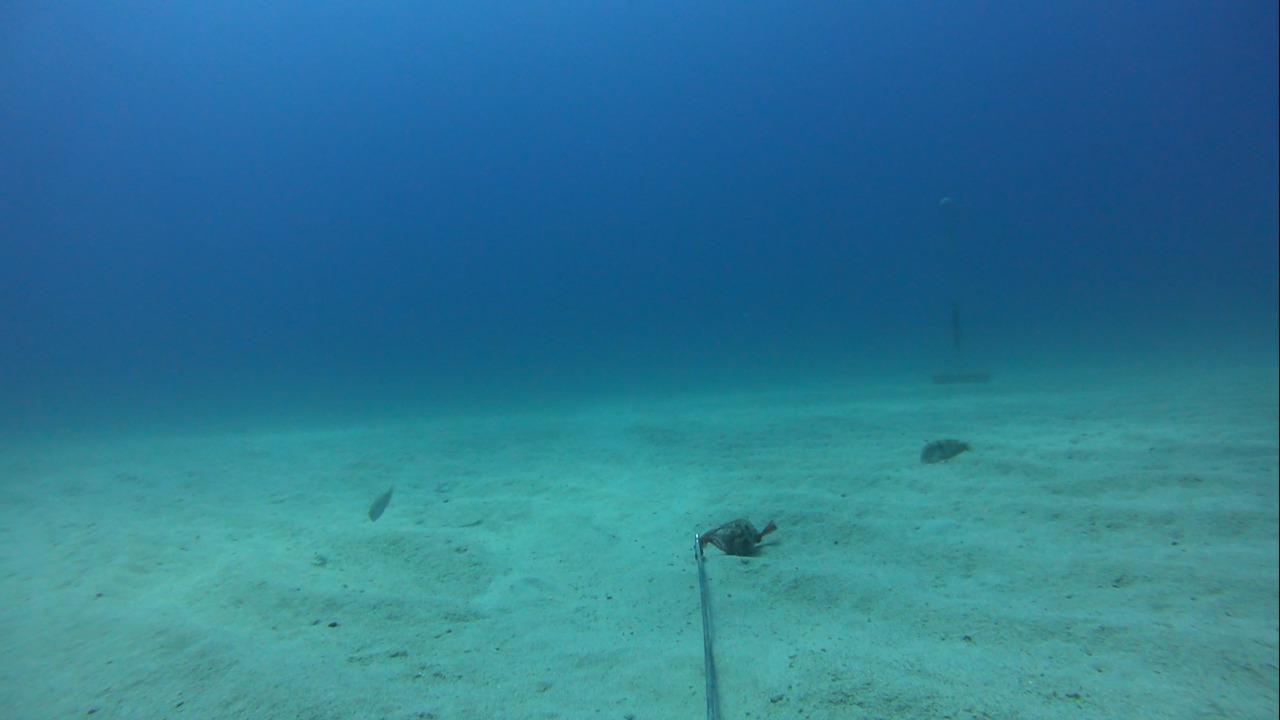raor: (912, 433, 973, 471), (359, 479, 403, 525)
